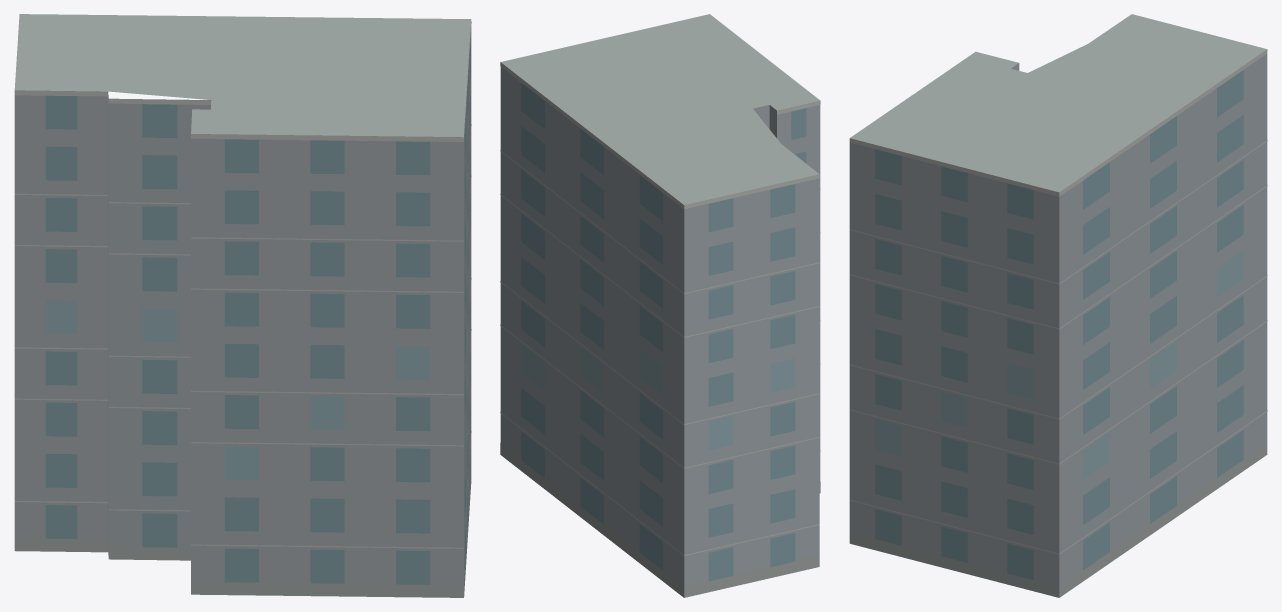
Rendered from survey-upis-32747168.glb.
3 views of the same model, side by side, from view 1: azimuth 30°, elevation 25°; view 2: azimuth 150°, elevation 25°; view 3: azimuth 270°, elevation 25° (orthographic). The views are drawn at different scales.
Visible parts, largest first — view 1: survey-upis-32747168.tmp; view 2: survey-upis-32747168.tmp; view 3: survey-upis-32747168.tmp.
Part boxes in pixels (left/top/right/bottom): survey-upis-32747168.tmp: left=14, top=14, right=471, bottom=597; survey-upis-32747168.tmp: left=500, top=14, right=820, bottom=597; survey-upis-32747168.tmp: left=849, top=14, right=1267, bottom=597.
Bounding box in the file's own units: 21.44 × 22.7 × 21.21.
